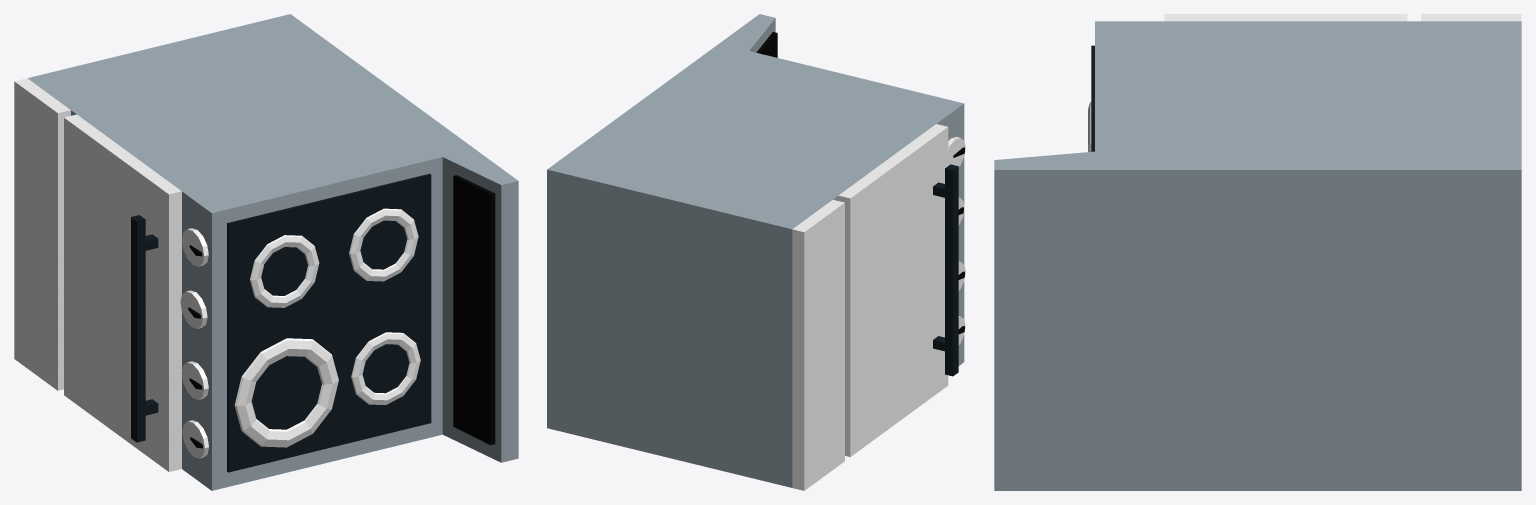
The model's file is Oven.fbx.
The picture shows the model from 3 angles, left to right: view 1: azimuth 30°, elevation 25°; view 2: azimuth 150°, elevation 25°; view 3: azimuth 270°, elevation 25°; orthographic projection. The views are drawn at different scales.
Parts seen in each view (by area): view 1: 226C74444D8A820E599307B63BC83B8A, 0DD118174E0C0D0D07E63CB8A39DDF2D, ACEC4CD2450D7070625E35B2309545C1, DAC8AEFE45B7A91C96894595E65895C7; view 2: 226C74444D8A820E599307B63BC83B8A, 0DD118174E0C0D0D07E63CB8A39DDF2D, ACEC4CD2450D7070625E35B2309545C1, DAC8AEFE45B7A91C96894595E65895C7; view 3: 226C74444D8A820E599307B63BC83B8A, 0DD118174E0C0D0D07E63CB8A39DDF2D.
Boxes of the visible parts, <box> form: 226C74444D8A820E599307B63BC83B8A: <box>27,14,518,490</box>; 0DD118174E0C0D0D07E63CB8A39DDF2D: <box>14,78,420,471</box>; ACEC4CD2450D7070625E35B2309545C1: <box>131,173,431,472</box>; DAC8AEFE45B7A91C96894595E65895C7: <box>188,175,495,448</box>; 226C74444D8A820E599307B63BC83B8A: <box>547,14,964,487</box>; 0DD118174E0C0D0D07E63CB8A39DDF2D: <box>792,124,965,490</box>; ACEC4CD2450D7070625E35B2309545C1: <box>933,164,958,376</box>; DAC8AEFE45B7A91C96894595E65895C7: <box>756,32,964,334</box>; 226C74444D8A820E599307B63BC83B8A: <box>994,21,1521,490</box>; 0DD118174E0C0D0D07E63CB8A39DDF2D: <box>1088,14,1521,151</box>.
Bounding box in the file's own units: 84.46 × 75.29 × 112.
